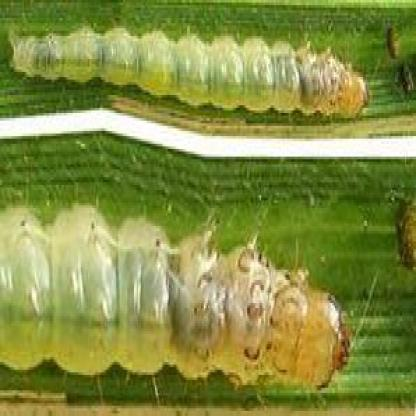leaf-folder: (13, 206, 354, 404), (11, 15, 378, 148)
